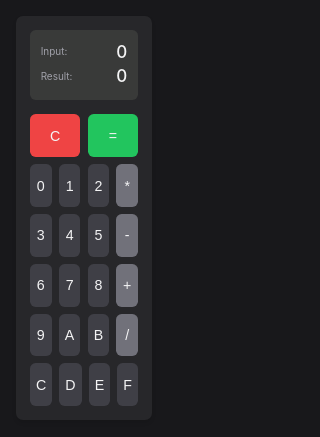
Calculator › limits output to a maximum of 4-digit hexadecimal values
# Input FF * FF (this should give FE01, which is a valid)
Click the button "F".
click(128, 385)  # box x1=117 y1=364 x2=138 y2=406
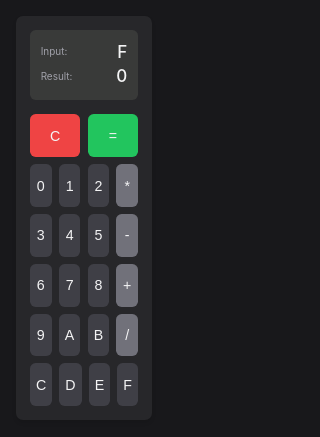
Click the button "F".
click(128, 385)  # box x1=117 y1=364 x2=138 y2=406
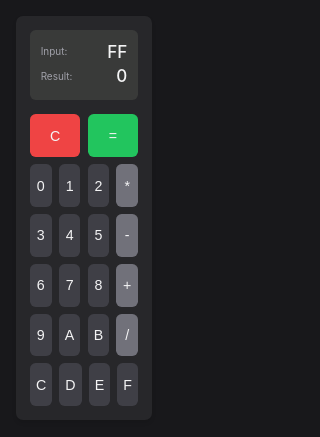
Click the button "*".
click(127, 186)  # box x1=116 y1=164 x2=138 y2=207
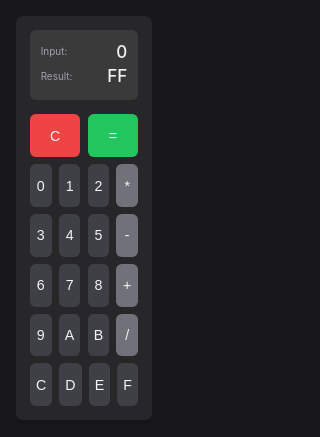
Click the button "F".
click(128, 385)  # box x1=117 y1=364 x2=138 y2=406
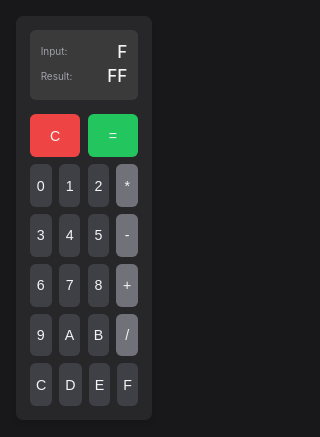
Click the button "F".
click(128, 385)  # box x1=117 y1=364 x2=138 y2=406
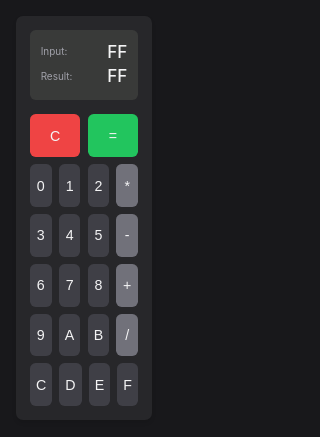
Click the button "=".
click(113, 136)  # box x1=88 y1=114 x2=138 y2=157
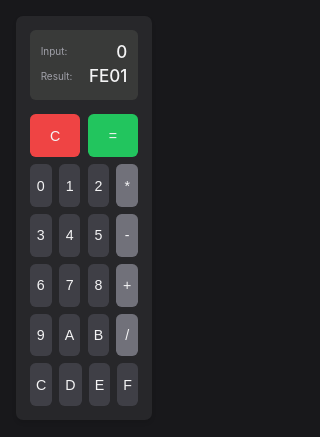
Expected: the text "0" reads "FE01", x1=89 y1=65 x2=127 y2=86
